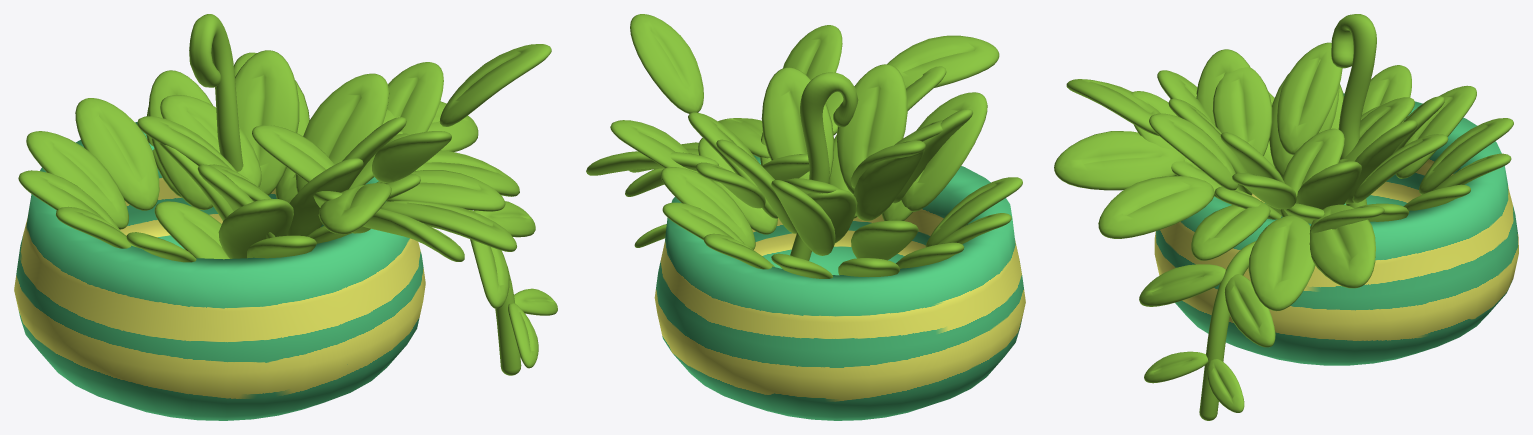
3 renders of one model, left to right at view 1: azimuth 30°, elevation 25°; view 2: azimuth 150°, elevation 25°; view 3: azimuth 270°, elevation 25°, orthographic. The views are drawn at different scales.
Parts seen in each view (by area): view 1: Sphere.003; view 2: Sphere.003; view 3: Sphere.003.
Part boxes in pixels (box(x1,y1,x2,y2)): Sphere.003: box(14, 14, 557, 420); Sphere.003: box(586, 14, 1025, 420); Sphere.003: box(1054, 14, 1518, 420).
Bounding box in the file's own units: 0.7514 × 0.5562 × 0.741.
Materials: 2 (1 with a texture image).
